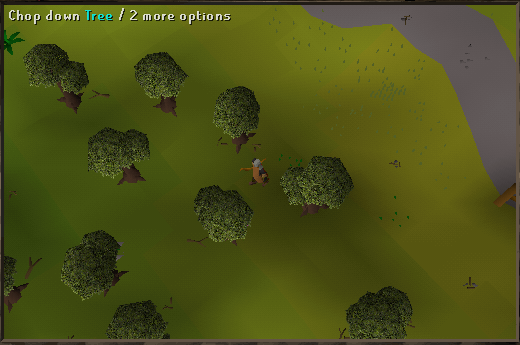Tree: (22, 44, 100, 115), (95, 126, 150, 181), (140, 58, 189, 116), (218, 91, 260, 157)
